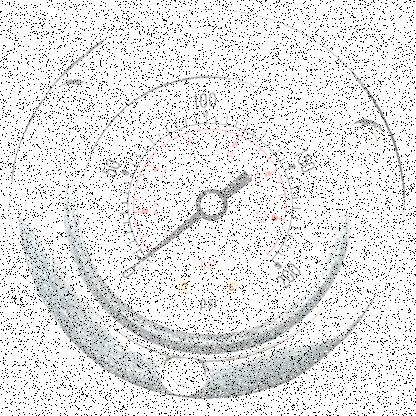needle: (131, 211, 202, 270)
